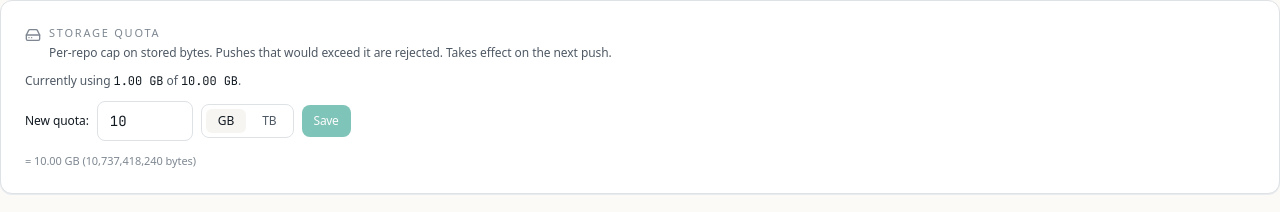
it: RepoQuotaSection › keeps Save disabled until the quota changes
expect the button "Save" is disabled: met, box [302,105,351,137]
Replace the text in the number field with "20" at (145,121), box [97,101,193,141]
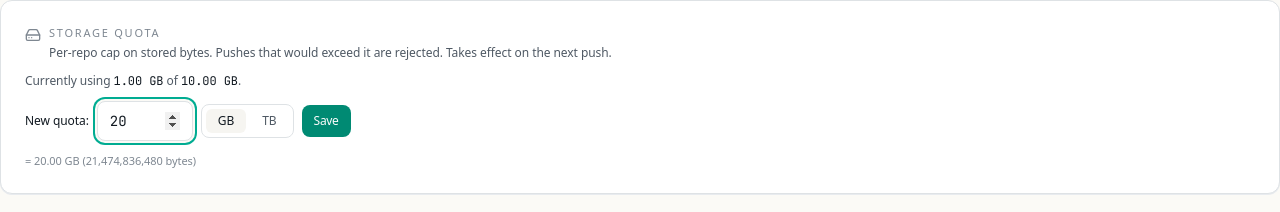
expect the button "Save" is enabled: met, box [302,105,351,137]
